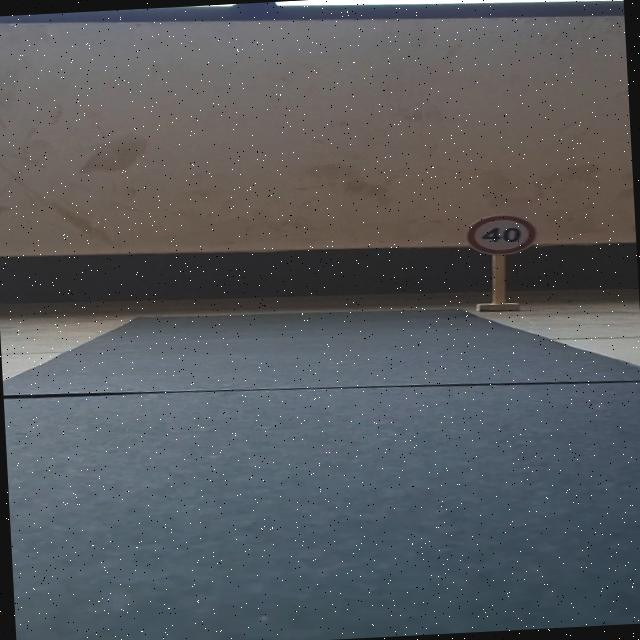Speed40: (456, 208, 548, 258)
